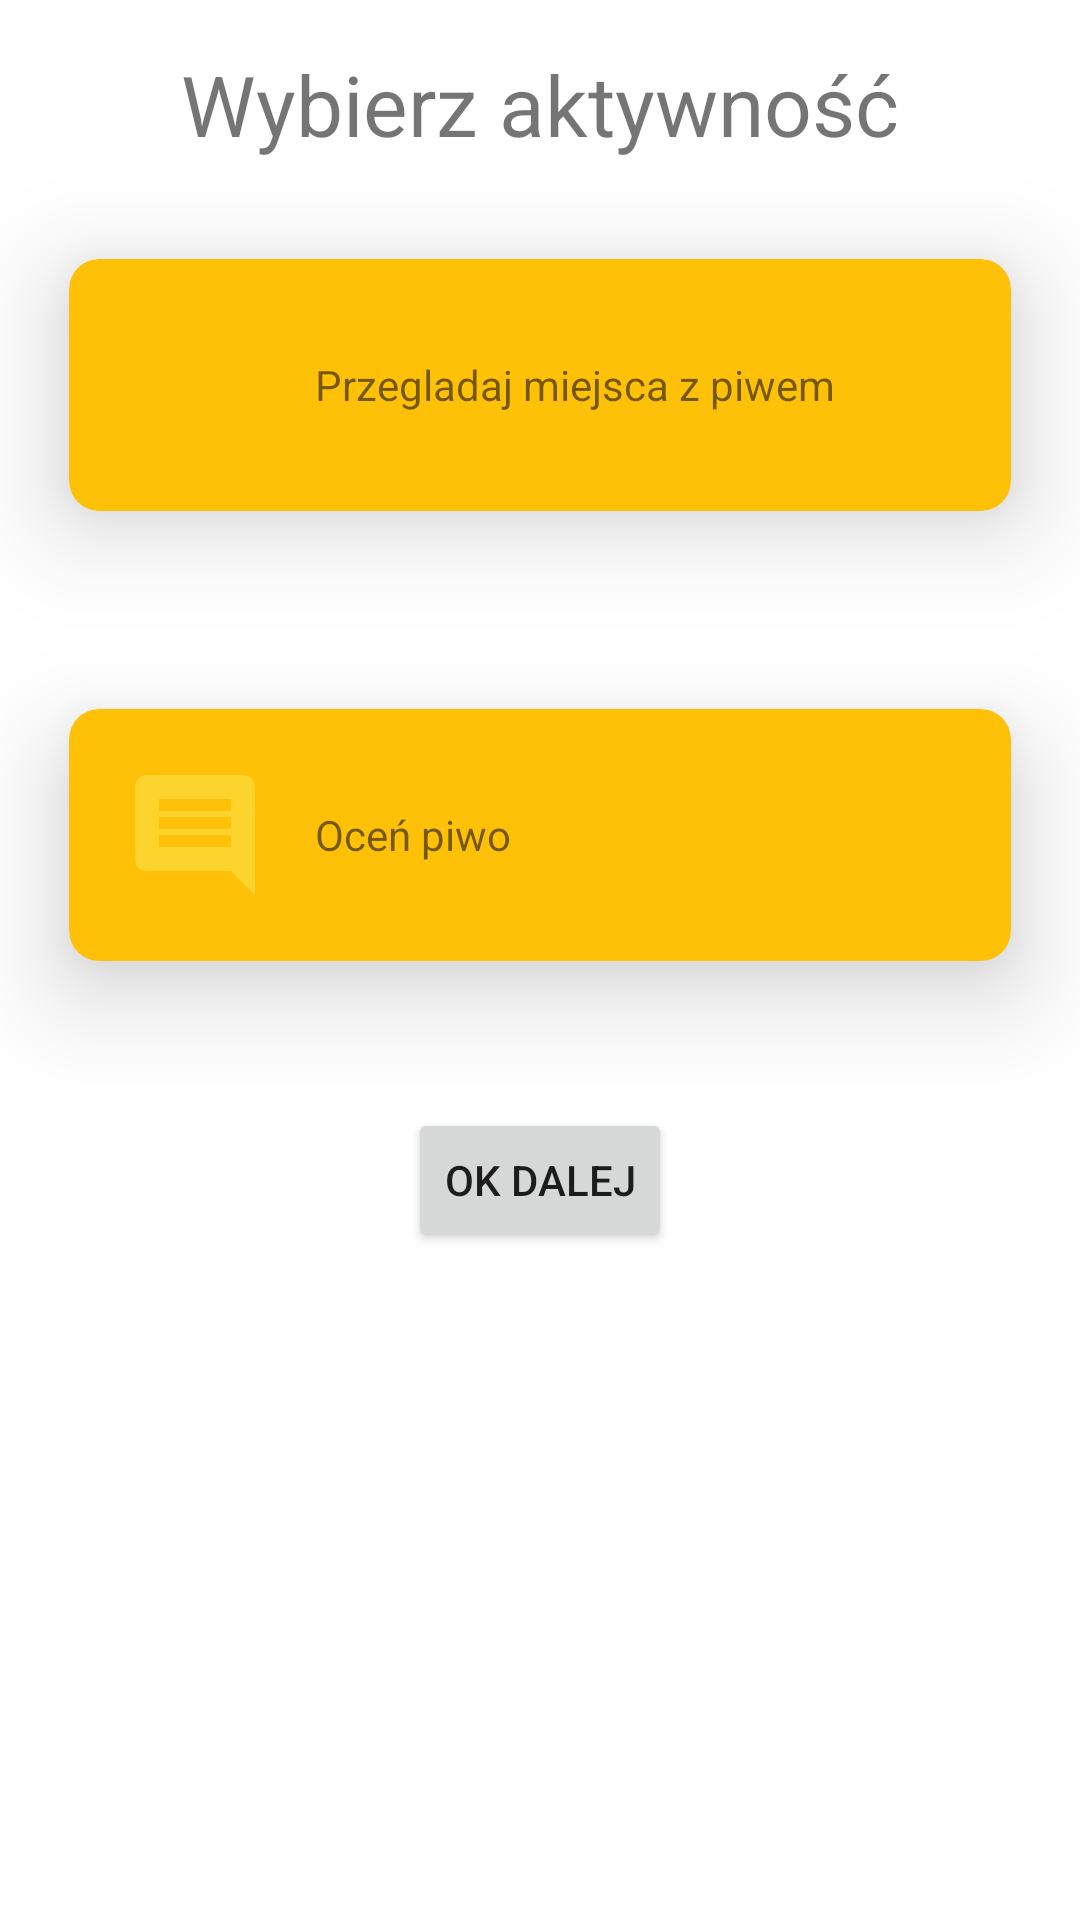

Where icons sit on this 1080 × 1920 app screen, as [x1,y1,x2,y2]:
comment: [135,775,255,894]
